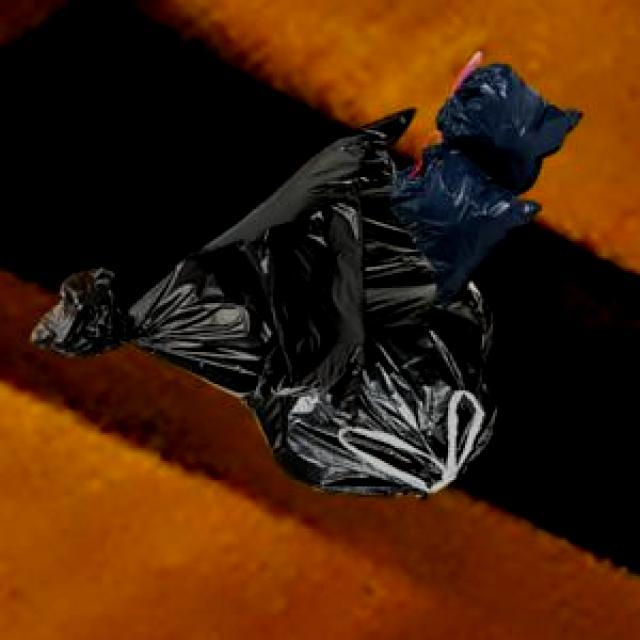Trashbag: (28, 195, 369, 422), (388, 159, 516, 291), (438, 65, 580, 178)
